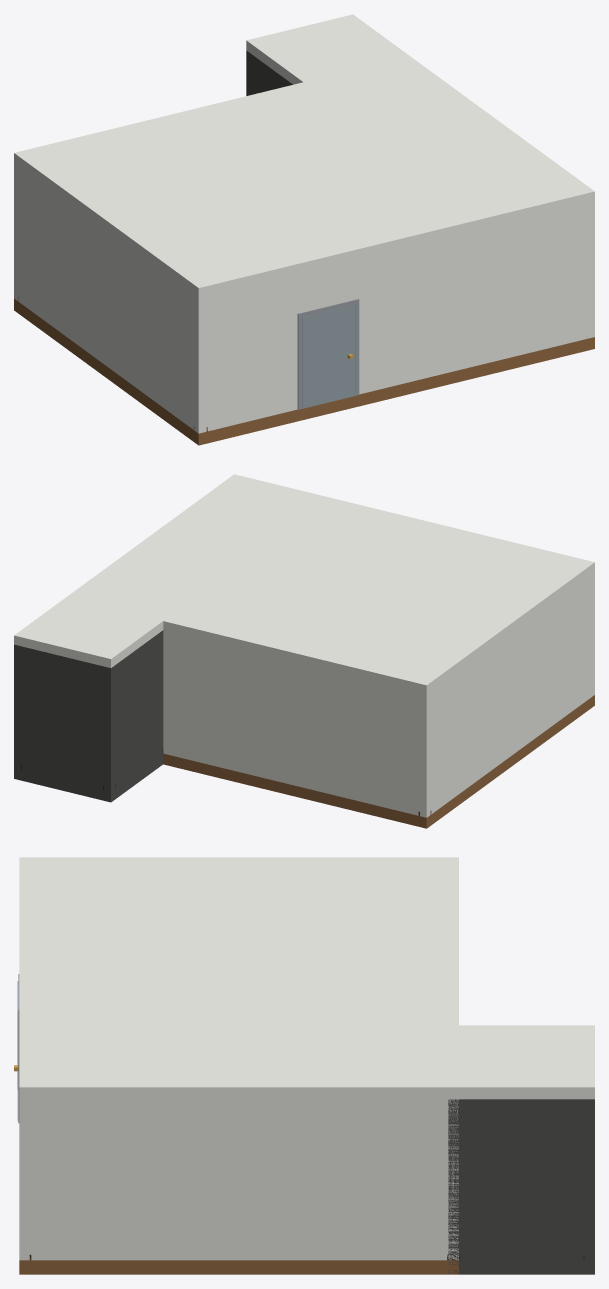
Rendered from shop_clothes.glb.
The picture shows the model from 3 angles, top to bottom: view 1: azimuth 30°, elevation 25°; view 2: azimuth 150°, elevation 25°; view 3: azimuth 270°, elevation 25°; orthographic projection. The views are drawn at different scales.
Parts seen in each view (by area): view 1: shop_clothes; view 2: shop_clothes; view 3: shop_clothes.
Part boxes in pixels (x1=…): shop_clothes: x1=14, y1=14, x2=594, y2=445; shop_clothes: x1=14, y1=474, x2=594, y2=828; shop_clothes: x1=14, y1=857, x2=594, y2=1274.
Size of what is drawn, in the model's own units: 10.4 by 3.95 by 11.1.
